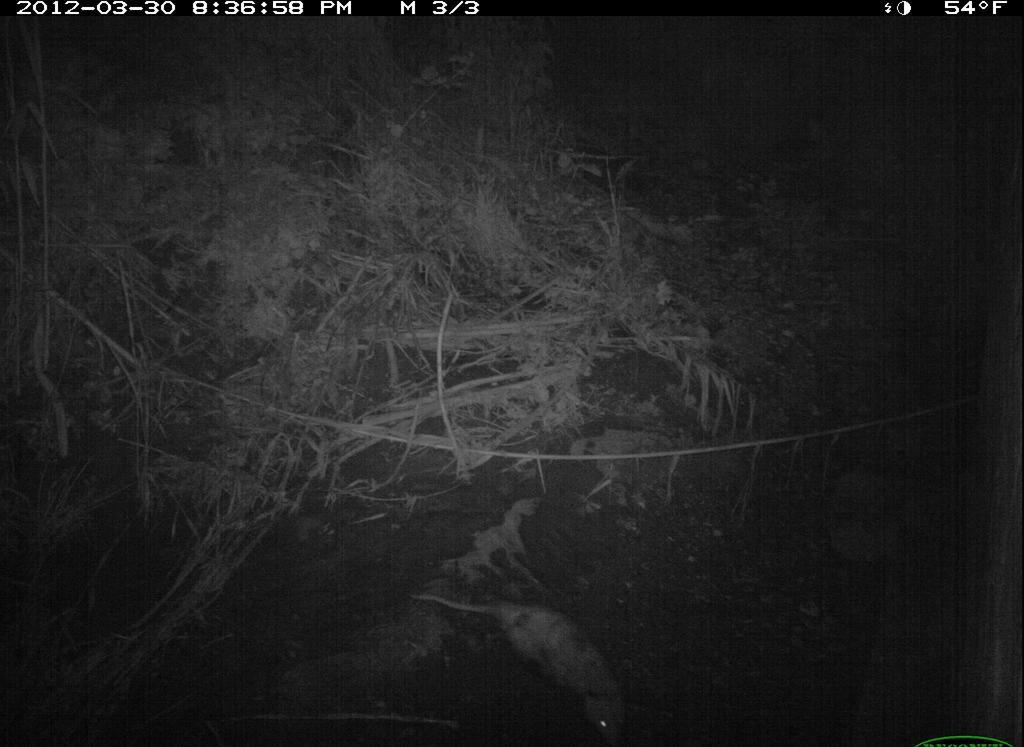opossum: (401, 562, 661, 747)
